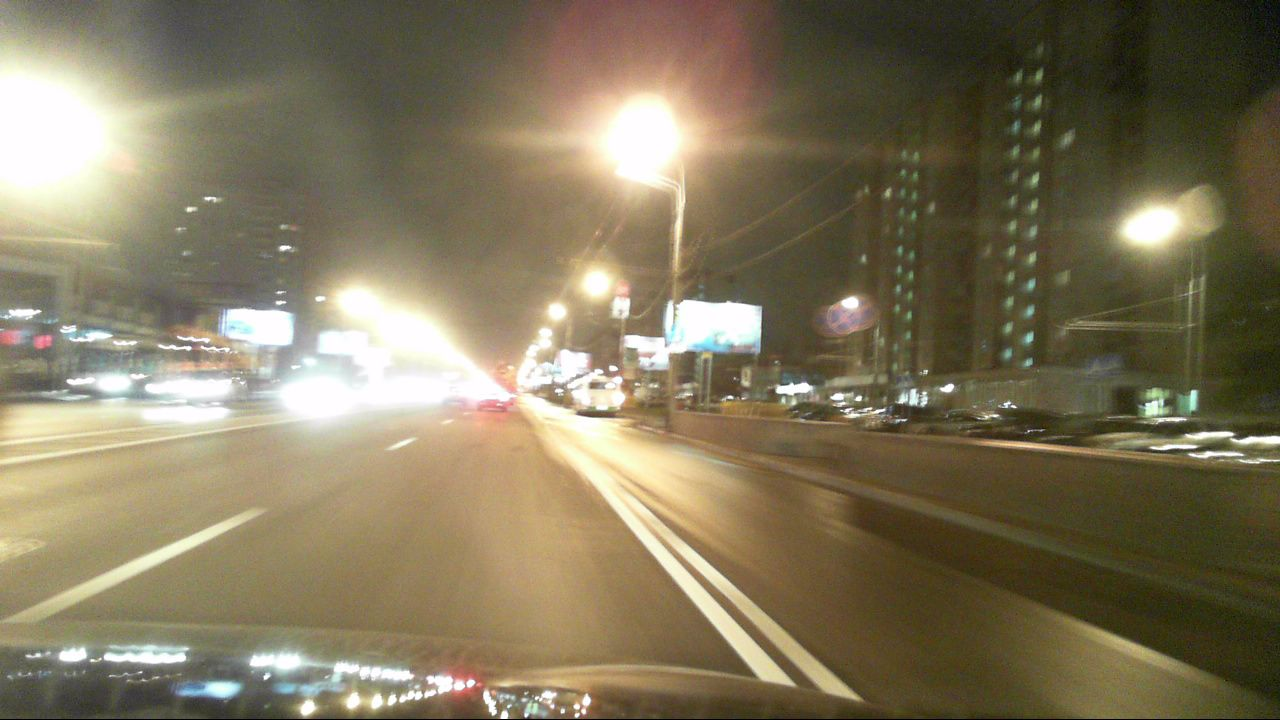No Parking: (828, 301, 860, 335)
